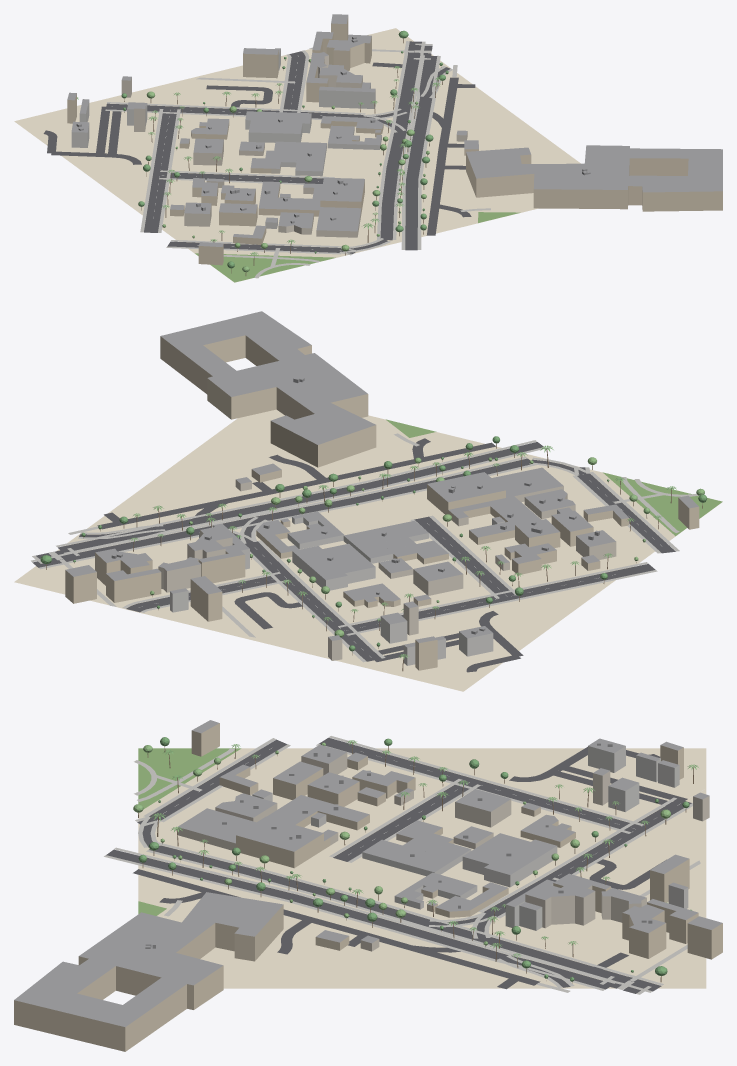
The model's file is tile_-5_-5.glb.
The picture shows the model from 3 angles, top to bottom: view 1: azimuth 30°, elevation 25°; view 2: azimuth 150°, elevation 25°; view 3: azimuth 270°, elevation 25°; orthographic projection. The views are drawn at different scales.
Parts seen in each view (by area): view 1: nature_ground, buildings_roof, roads_asphalt, buildings_sandstone, roads_sidewalk, buildings_concrete_light, buildings_concrete_warm, nature_grass, nature_foliage_a, nature_palm_leaf, nature_trunk, nature_foliage_b; view 2: nature_ground, buildings_roof, roads_asphalt, buildings_sandstone, roads_sidewalk, buildings_concrete_warm, buildings_concrete_light, nature_grass, nature_foliage_a, nature_palm_leaf, nature_foliage_b, nature_trunk; view 3: nature_ground, buildings_roof, roads_asphalt, buildings_sandstone, roads_sidewalk, buildings_concrete_warm, buildings_concrete_light, nature_grass, nature_foliage_a, nature_palm_leaf, nature_foliage_b, nature_trunk.
Boxes of the visible parts, box(x1,y1,x2,y2) form: nature_ground: box(14, 28, 580, 282); buildings_roof: box(67, 14, 722, 246); roads_asphalt: box(43, 41, 475, 253); buildings_sandstone: box(67, 16, 722, 265); roads_sidewalk: box(105, 41, 490, 278); buildings_concrete_light: box(71, 49, 381, 228); buildings_concrete_warm: box(121, 55, 467, 237); nature_grass: box(195, 212, 520, 282); nature_foliage_a: box(121, 30, 448, 268); nature_palm_leaf: box(77, 66, 441, 256); nature_trunk: box(124, 38, 442, 275); nature_foliage_b: box(146, 59, 429, 272); nature_ground: box(14, 409, 719, 691); buildings_roof: box(65, 311, 698, 647); roads_asphalt: box(32, 438, 675, 672); buildings_sandstone: box(65, 335, 699, 670); roads_sidewalk: box(31, 433, 697, 662); buildings_concrete_warm: box(158, 480, 616, 660); buildings_concrete_light: box(170, 510, 560, 665); nature_grass: box(386, 419, 722, 536); nature_foliage_a: box(40, 436, 707, 651); nature_palm_leaf: box(130, 445, 676, 658); nature_foliage_b: box(150, 457, 704, 637); nature_trunk: box(46, 443, 702, 671); nature_ground: box(138, 748, 706, 988); buildings_roof: box(14, 720, 722, 1027); roads_asphalt: box(106, 737, 691, 993); buildings_sandstone: box(14, 723, 722, 1051); roads_sidewalk: box(104, 736, 700, 994); buildings_concrete_warm: box(177, 752, 709, 951); buildings_concrete_light: box(252, 746, 688, 930); nature_grass: box(138, 748, 241, 915); nature_foliage_a: box(138, 737, 691, 981); nature_palm_leaf: box(151, 740, 698, 957); nature_foliage_b: box(133, 742, 671, 945); nature_trunk: box(138, 742, 693, 983).
Size of the model in its own units: 329 by 14.99 by 312.
